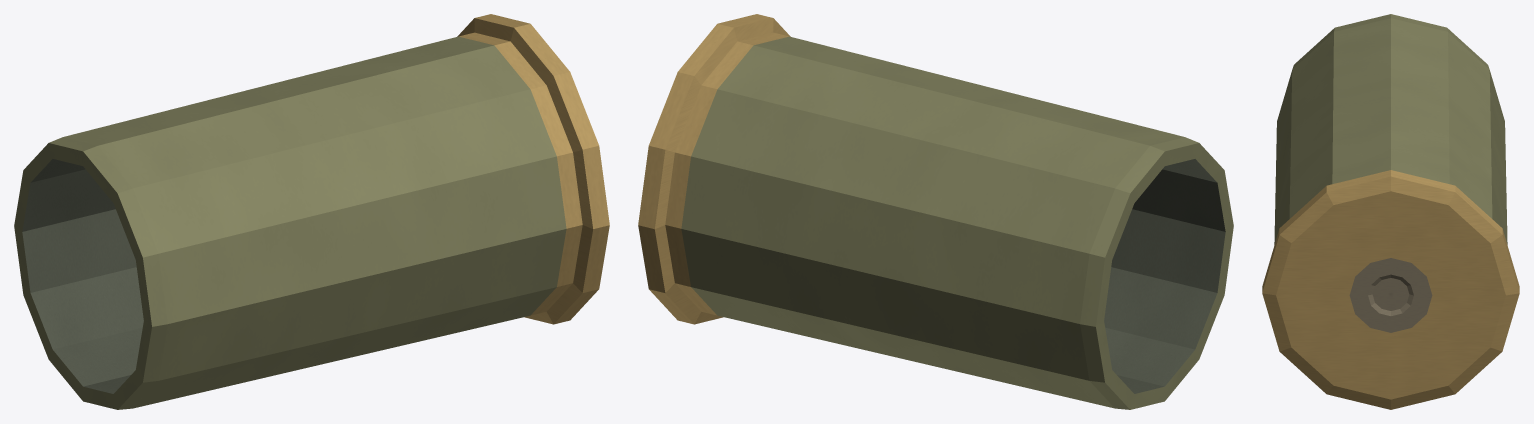
Rendered from 12_launcher_casing_lowpoly.glb.
The picture shows the model from 3 angles, left to right: view 1: azimuth 30°, elevation 25°; view 2: azimuth 150°, elevation 25°; view 3: azimuth 270°, elevation 25°; orthographic projection. The views are drawn at different scales.
Visible parts, largest first — view 1: launcher_casing; view 2: launcher_casing; view 3: launcher_casing.
Boxes of the visible parts, bbox=[...] form: launcher_casing: bbox=[14, 14, 609, 409]; launcher_casing: bbox=[638, 14, 1233, 409]; launcher_casing: bbox=[1262, 14, 1519, 409].
Bounding box in the file's own units: 0.0925 × 0.056 × 0.056.
Materials: 4 (4 with a texture image).
